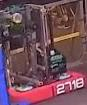red_number: (54, 76, 86, 96)
